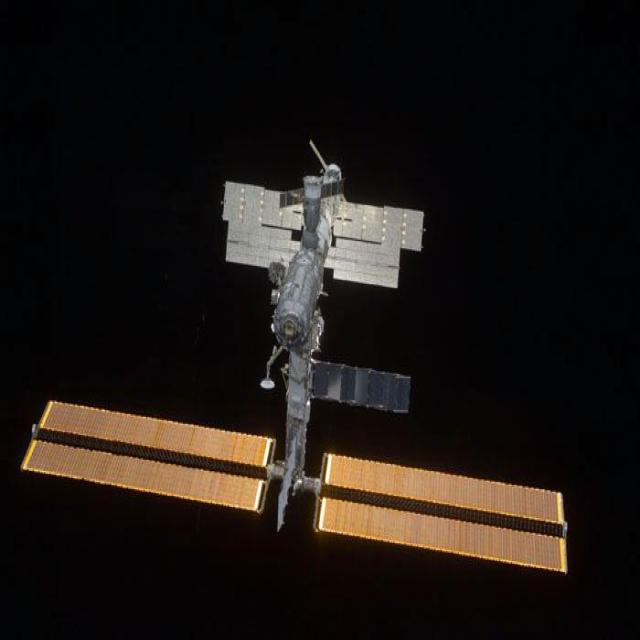satellite: (22, 165, 568, 571)
